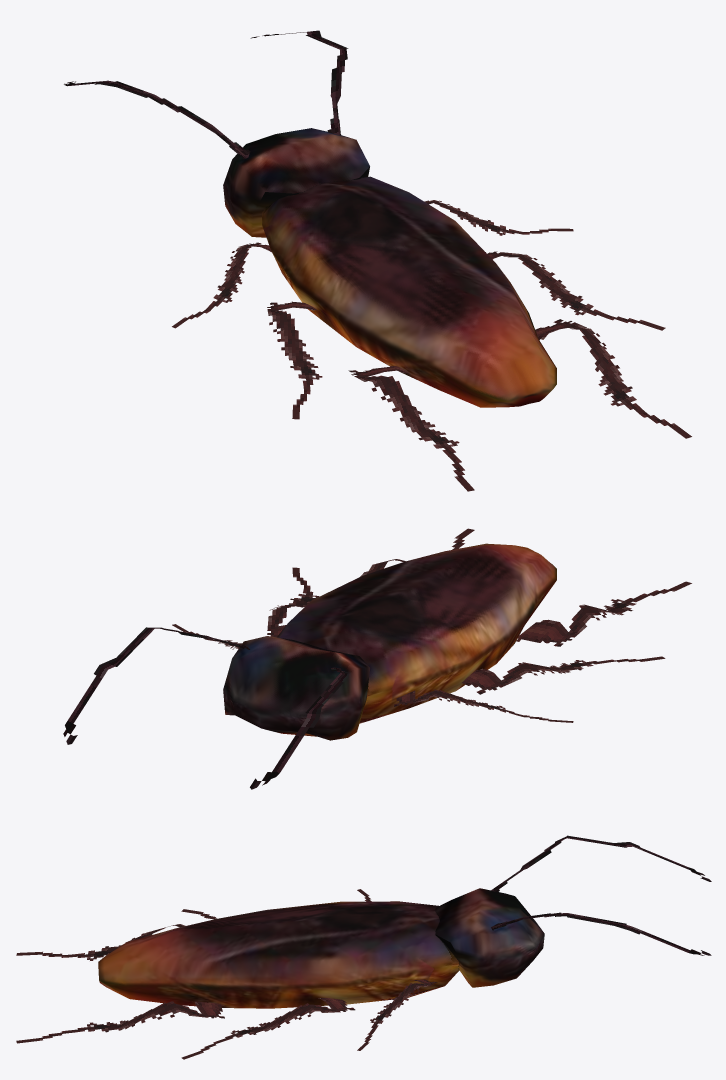
Rendered from barata_low-poly.glb.
The picture shows the model from 3 angles, top to bottom: view 1: azimuth 30°, elevation 25°; view 2: azimuth 150°, elevation 25°; view 3: azimuth 270°, elevation 25°; orthographic projection. The views are drawn at different scales.
Visible parts, largest first — view 1: Object_2, Object_4, Object_3; view 2: Object_2, Object_4, Object_3; view 3: Object_2, Object_4, Object_3.
Part boxes in pixels (bbox=[...]): Object_2: bbox=[223, 128, 556, 407]; Object_4: bbox=[172, 200, 691, 491]; Object_3: bbox=[64, 30, 348, 159]; Object_2: bbox=[223, 543, 556, 740]; Object_4: bbox=[172, 528, 691, 722]; Object_3: bbox=[63, 627, 348, 789]; Object_2: bbox=[98, 888, 544, 1008]; Object_4: bbox=[16, 889, 437, 1059]; Object_3: bbox=[491, 835, 711, 955].
Bounding box in the file's own units: 2.46 × 0.8549 × 4.37.
3 materials, 3 textured.
